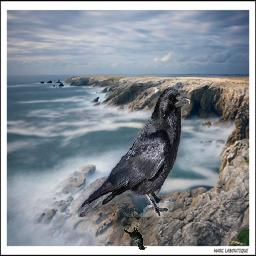Crow: (78, 87, 190, 217), (123, 222, 147, 250)
